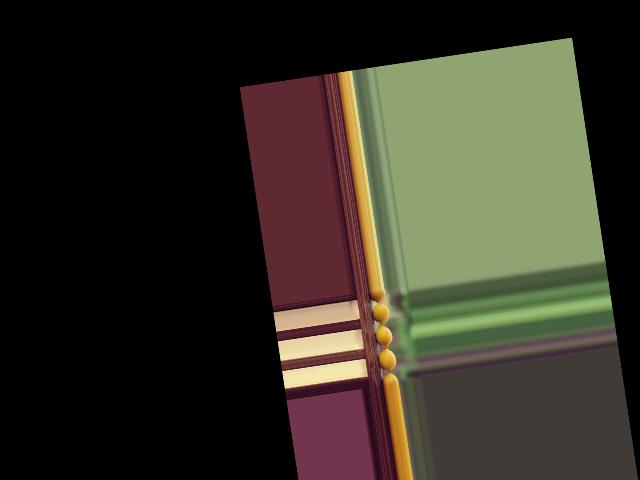lemon: (381, 372, 399, 385)
